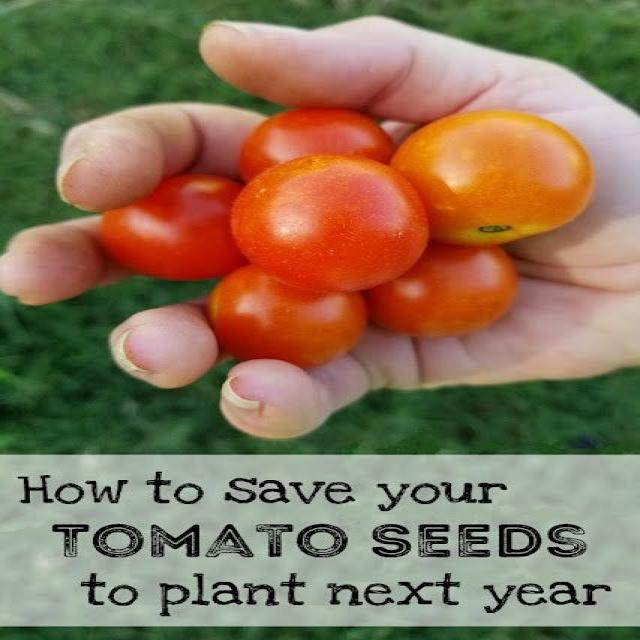level 4: (387, 108, 598, 246)
level 5: (344, 224, 525, 337)
level 6: (235, 152, 420, 290), (96, 176, 258, 284), (240, 109, 404, 211), (206, 264, 372, 364)
